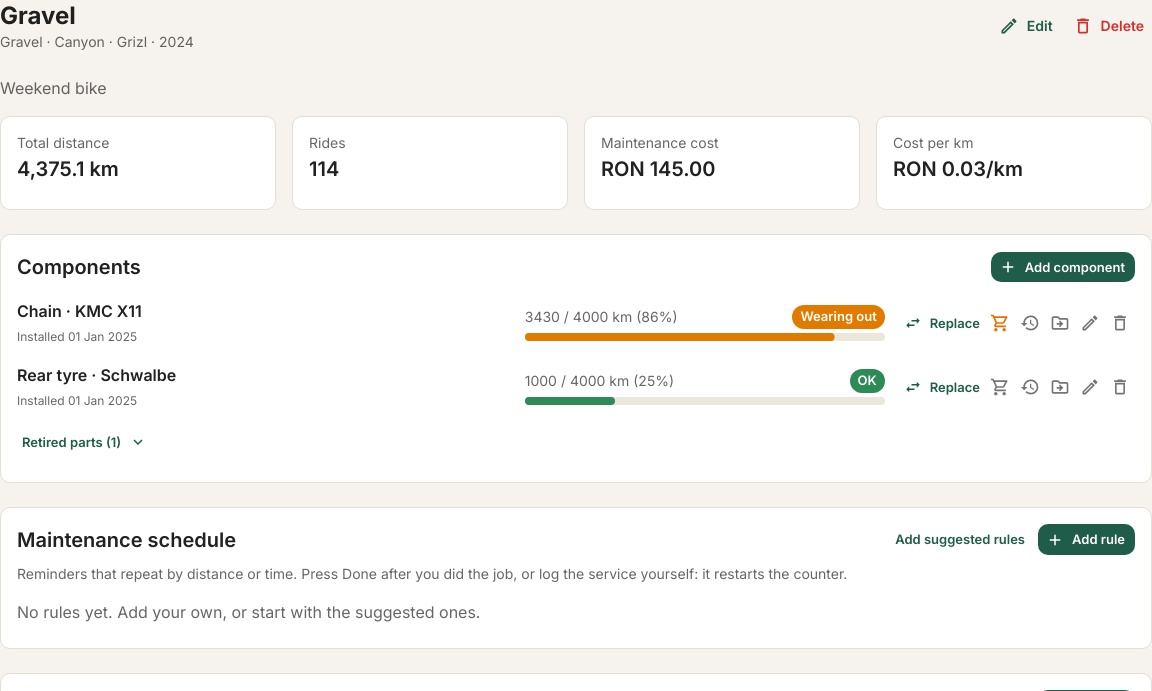
Test: BikeDetail › moving parts and their history › Move opens the dialog for that part, moves it and refreshes the page
This screenshot has width=1152, height=691.
Check: the heading "Gravel" is shown, box [0,1,76,30]
Click the button named "Move to another bike" in the row of "Wearing out".
click(1060, 323)  # box [1045,308,1075,338]
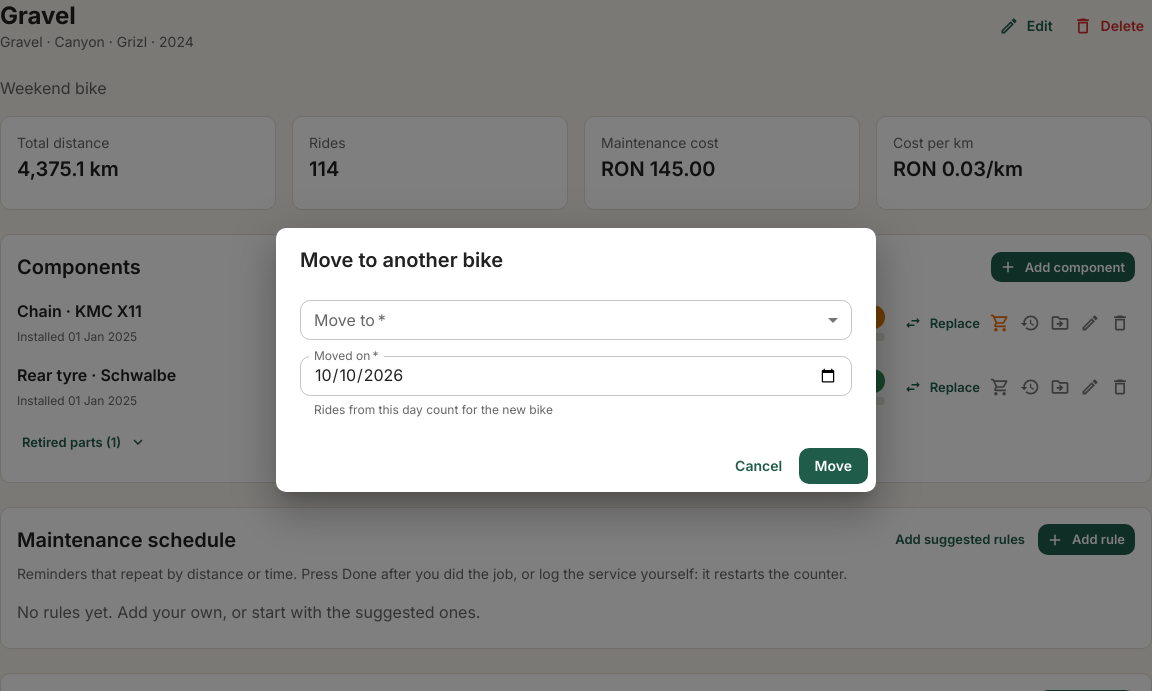
Check: the heading "Move to another bike" is shown, box [300,248,503,272]
Click the dropdown named "Move to".
click(576, 320)  # box [300,300,852,340]
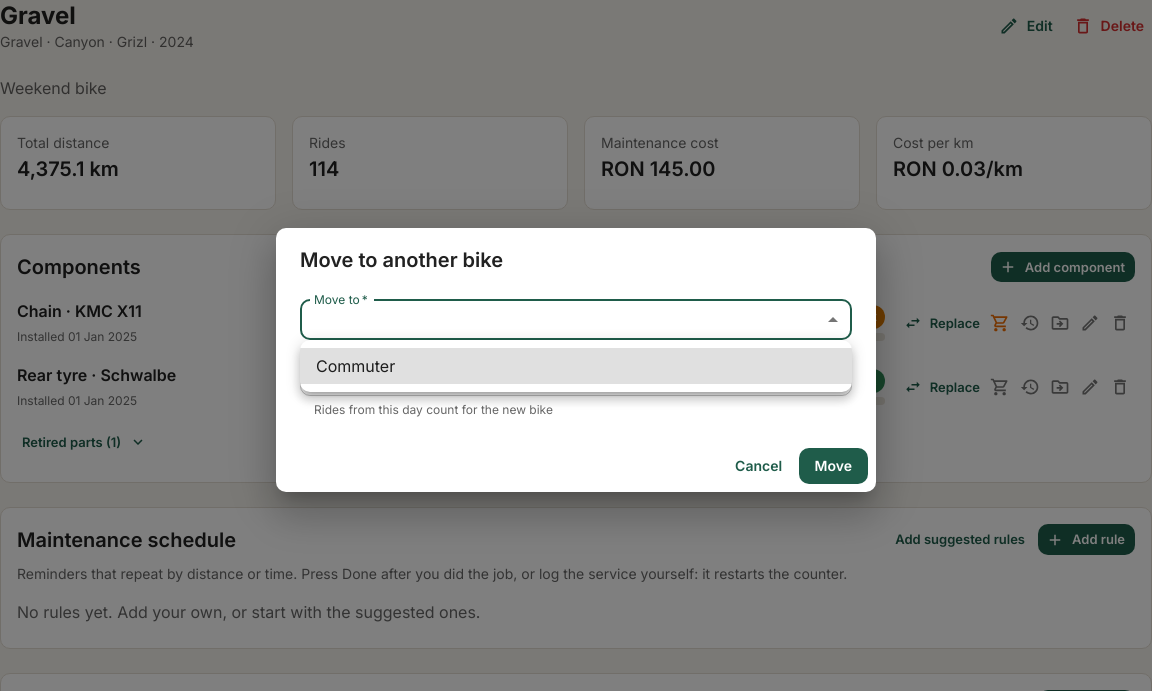
Click the option "Commuter".
click(356, 366)  # box [300,348,852,384]
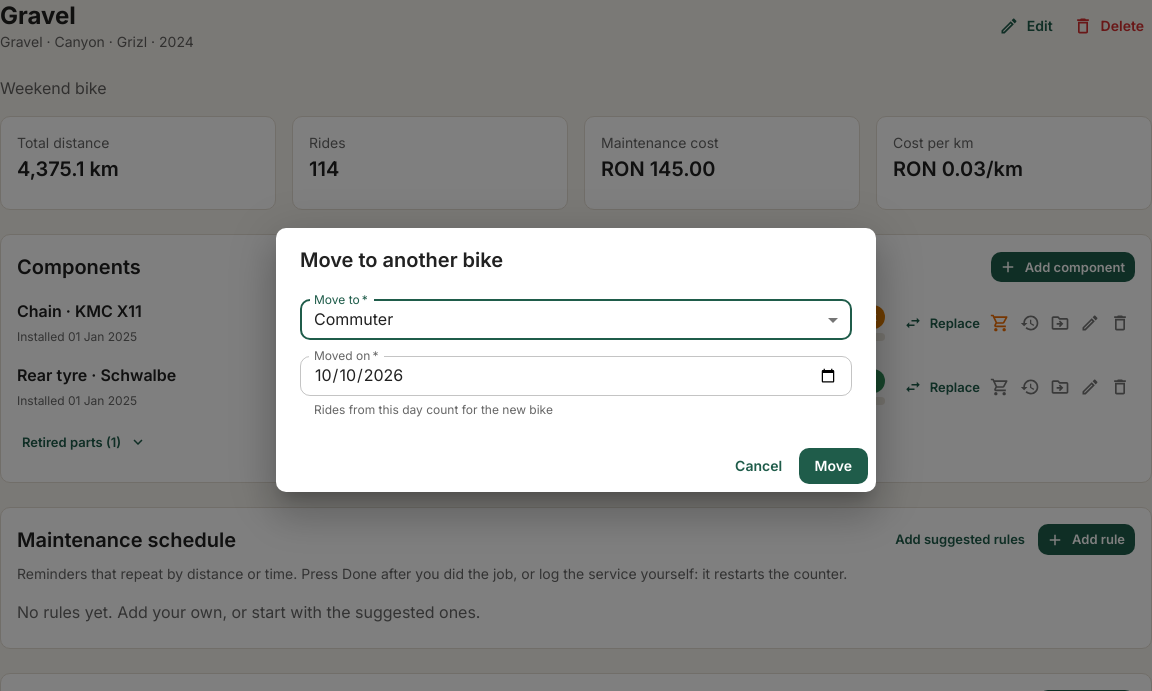
Click the button "Move".
click(833, 466)  # box [799,448,868,484]
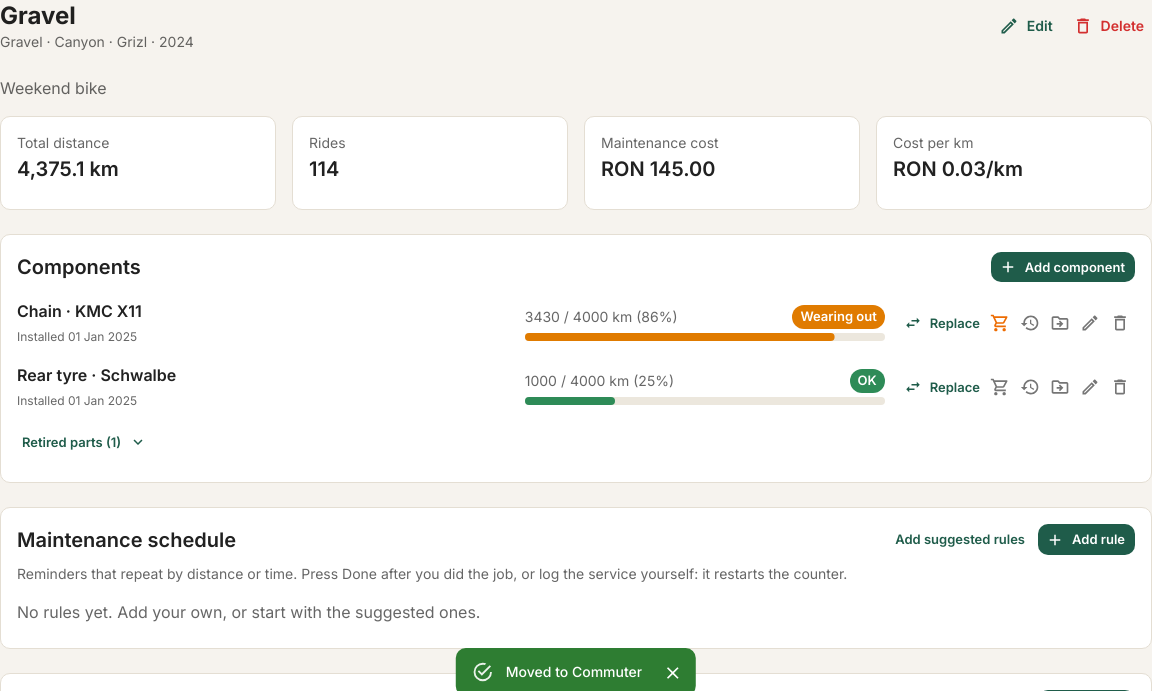
Check: the text "Moved to Commuter" is shown, box [506,663,642,680]
